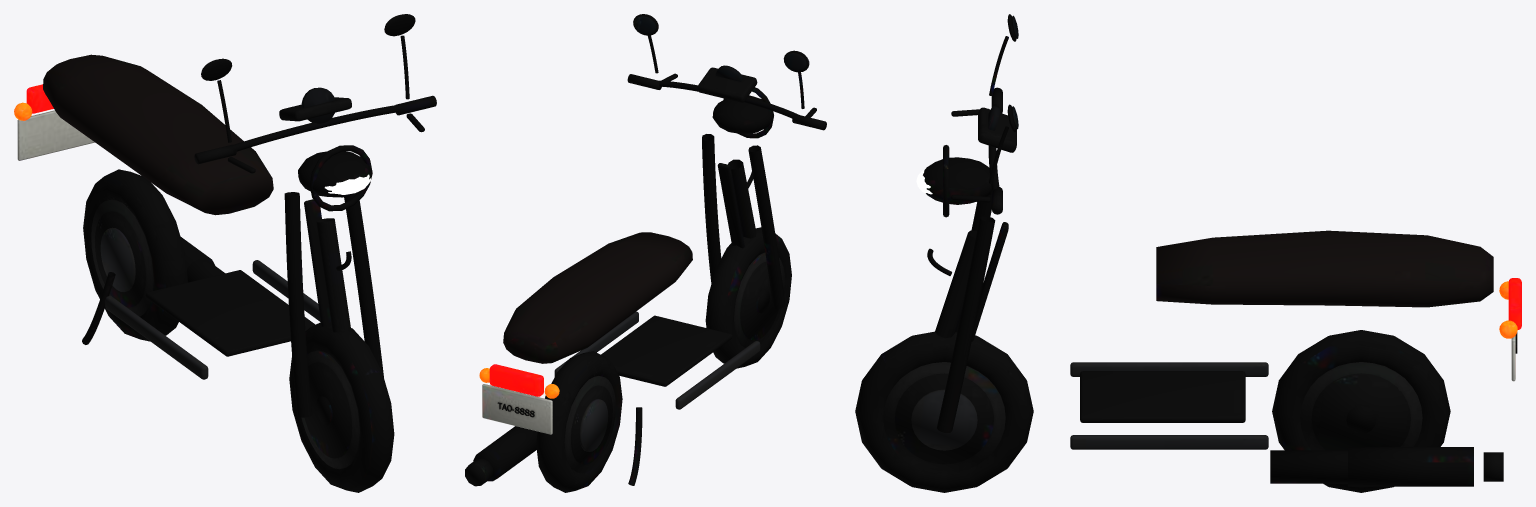
Rendered from scooter_rest.glb.
The picture shows the model from 3 angles, left to right: view 1: azimuth 30°, elevation 25°; view 2: azimuth 150°, elevation 25°; view 3: azimuth 270°, elevation 25°; orthographic projection. The views are drawn at different scales.
Visible parts, largest first — view 1: scooter_rest; view 2: scooter_rest; view 3: scooter_rest.
Part boxes in pixels (x1,y1,x2,y2): scooter_rest: (14,14,436,492); scooter_rest: (465,14,826,492); scooter_rest: (855,14,1521,492).
Bounding box in the file's own units: 0.8362 × 1.44 × 2.02.
1 material, 1 textured.
